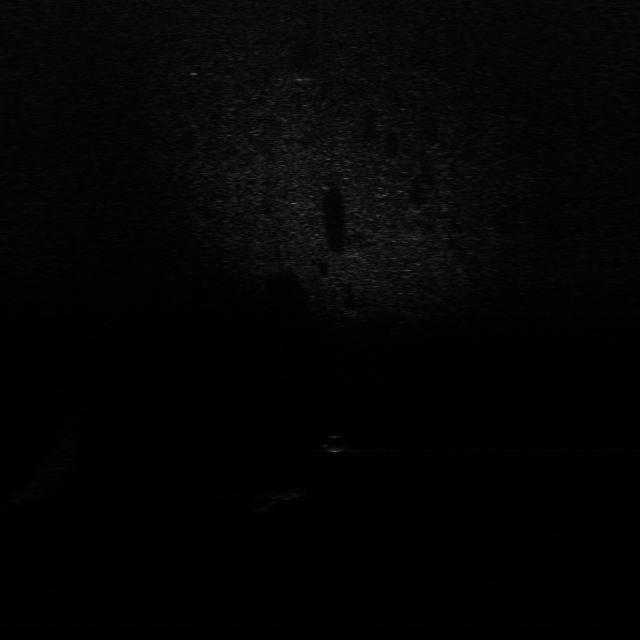ball: (313, 432, 352, 459)
square cage: (258, 483, 313, 505)
